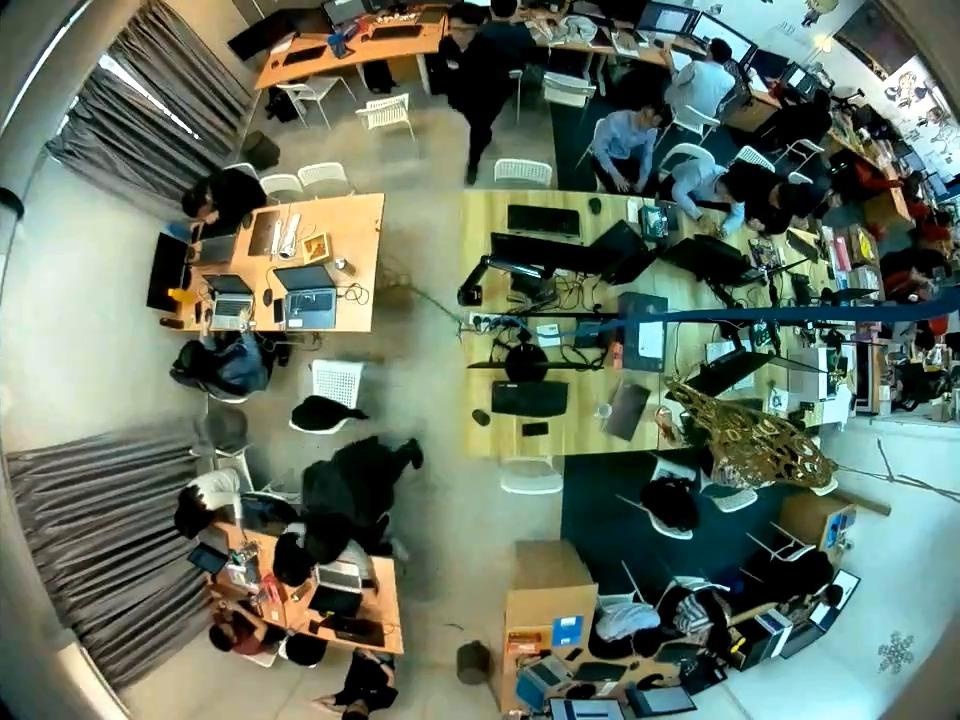name-tag: (447, 61, 459, 69)
